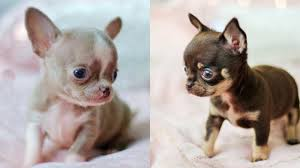Bulldog: (165, 5, 300, 168), (11, 4, 143, 163)
